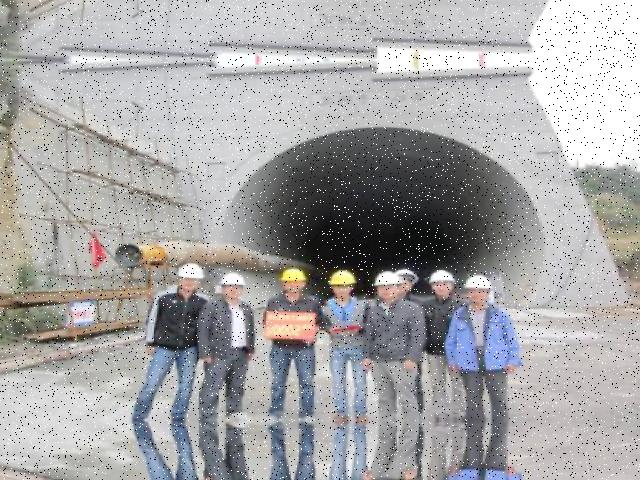Helmet: (174, 259, 212, 284), (372, 267, 407, 293), (465, 272, 497, 298), (278, 264, 314, 287), (218, 267, 251, 292), (325, 267, 362, 288), (428, 265, 461, 287)
